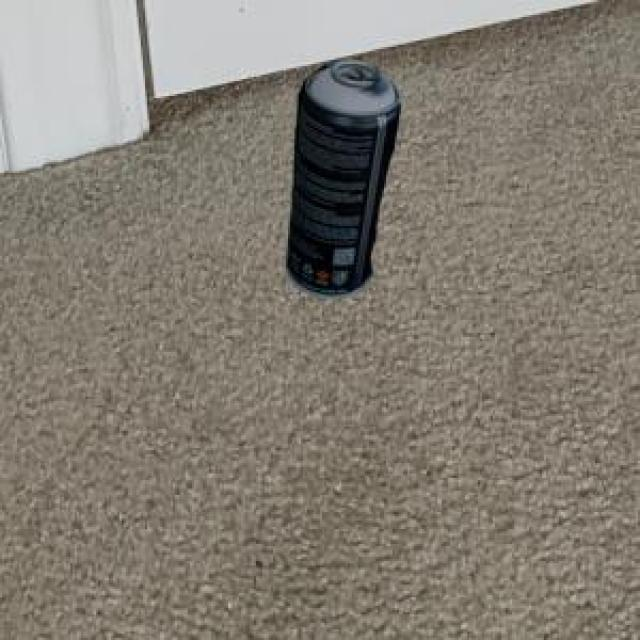Can: (283, 57, 396, 295)
